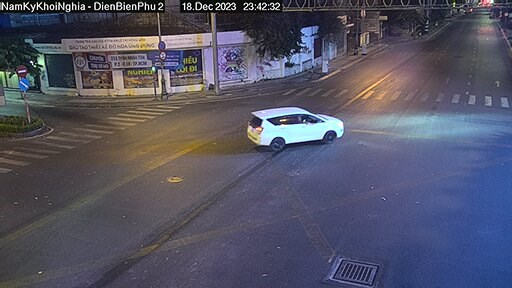car: (238, 95, 374, 153)
